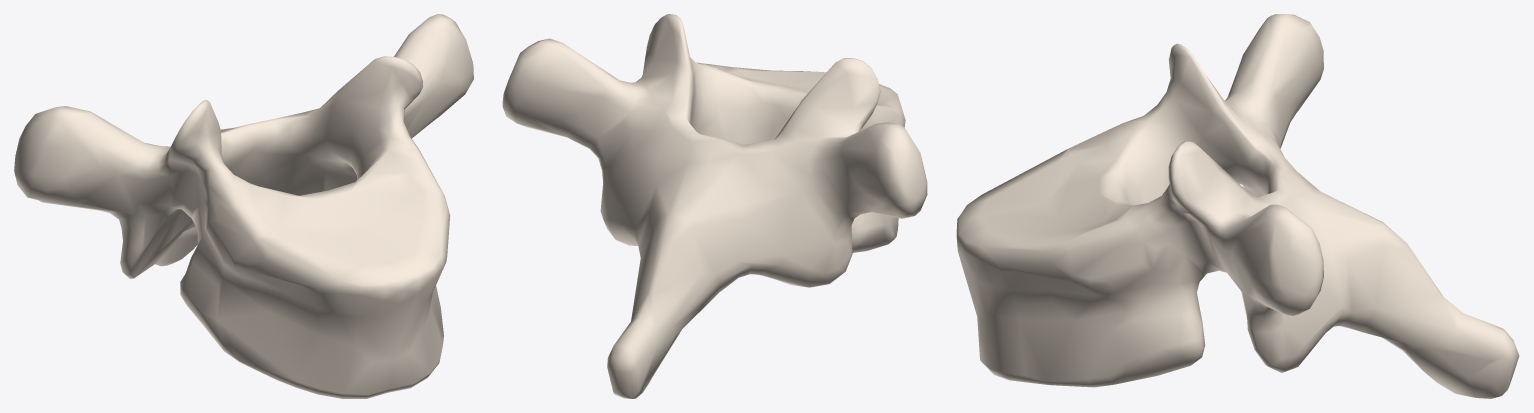
The picture shows the model from 3 angles, left to right: view 1: azimuth 30°, elevation 25°; view 2: azimuth 150°, elevation 25°; view 3: azimuth 270°, elevation 25°; orthographic projection. The views are drawn at different scales.
Visible parts, largest first — view 1: Thoracic vertebrae (T4); view 2: Thoracic vertebrae (T4); view 3: Thoracic vertebrae (T4).
Boxes of the visible parts, x1,y1,x2,y2 form: Thoracic vertebrae (T4): (14, 14, 473, 398); Thoracic vertebrae (T4): (502, 14, 927, 398); Thoracic vertebrae (T4): (956, 14, 1519, 398).
Size of the model in its own units: 0.0698 by 0.0422 by 0.0716.
